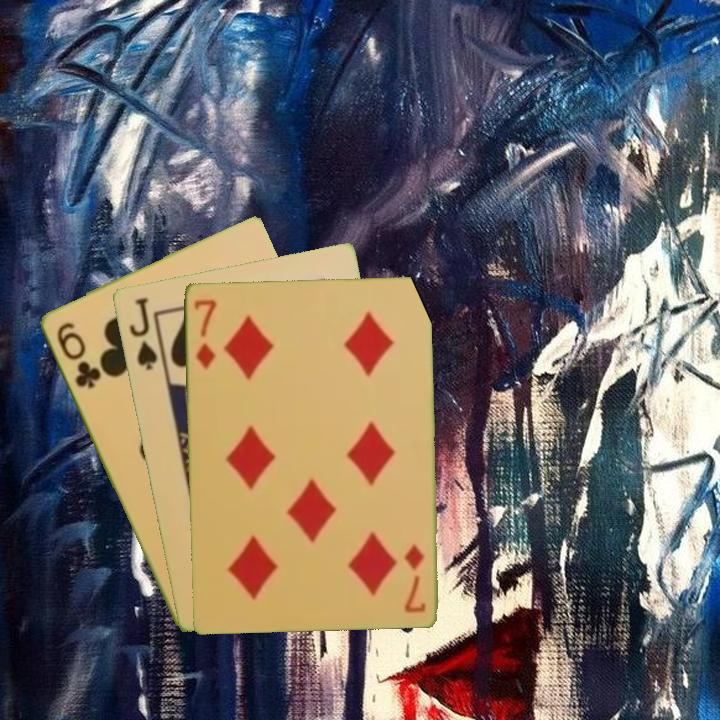6c: (52, 318, 103, 391)
7d: (190, 295, 219, 371), (400, 540, 428, 615)
Js: (125, 294, 160, 373)
